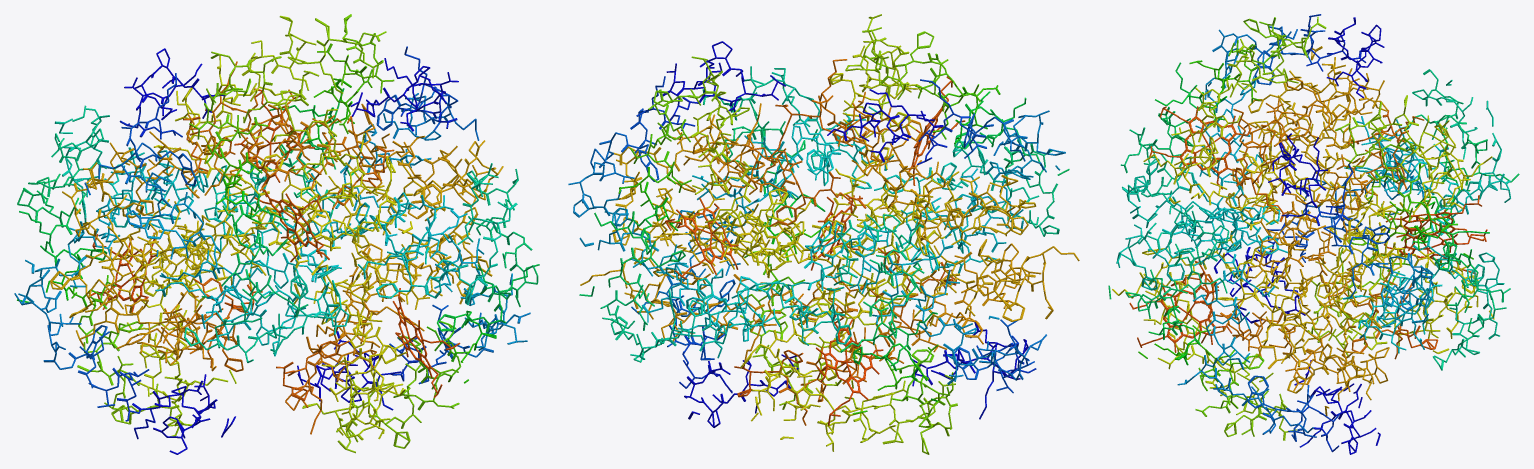
Rendered from 4hhb__lines__rainbow.glb.
The picture shows the model from 3 angles, left to right: view 1: azimuth 30°, elevation 25°; view 2: azimuth 150°, elevation 25°; view 3: azimuth 270°, elevation 25°; orthographic projection. The views are drawn at different scales.
Visible parts, largest first — view 1: Renderer Node; view 2: Renderer Node; view 3: Renderer Node.
Boxes of the visible parts, left/top/right/bottom form: Renderer Node: left=14, top=14, right=539, bottom=454; Renderer Node: left=568, top=14, right=1079, bottom=454; Renderer Node: left=1108, top=14, right=1519, bottom=454.
Size of the model in its own units: 65.55 by 57.14 by 57.46.
